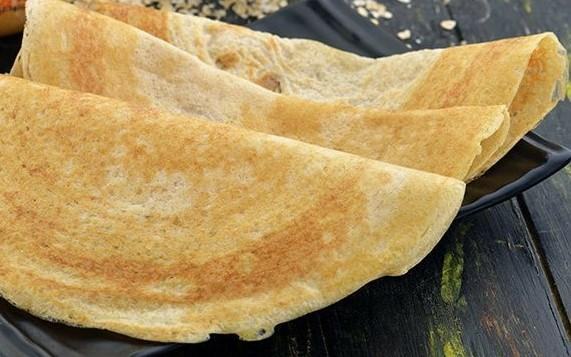Dosa: (0, 73, 465, 347), (21, 1, 510, 182), (76, 0, 569, 177)
